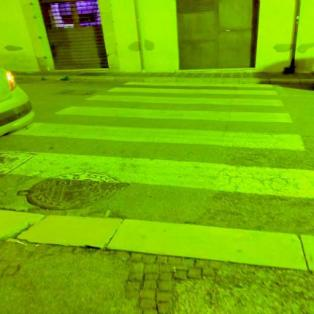Paso de Cebra: (53, 94, 297, 126)
